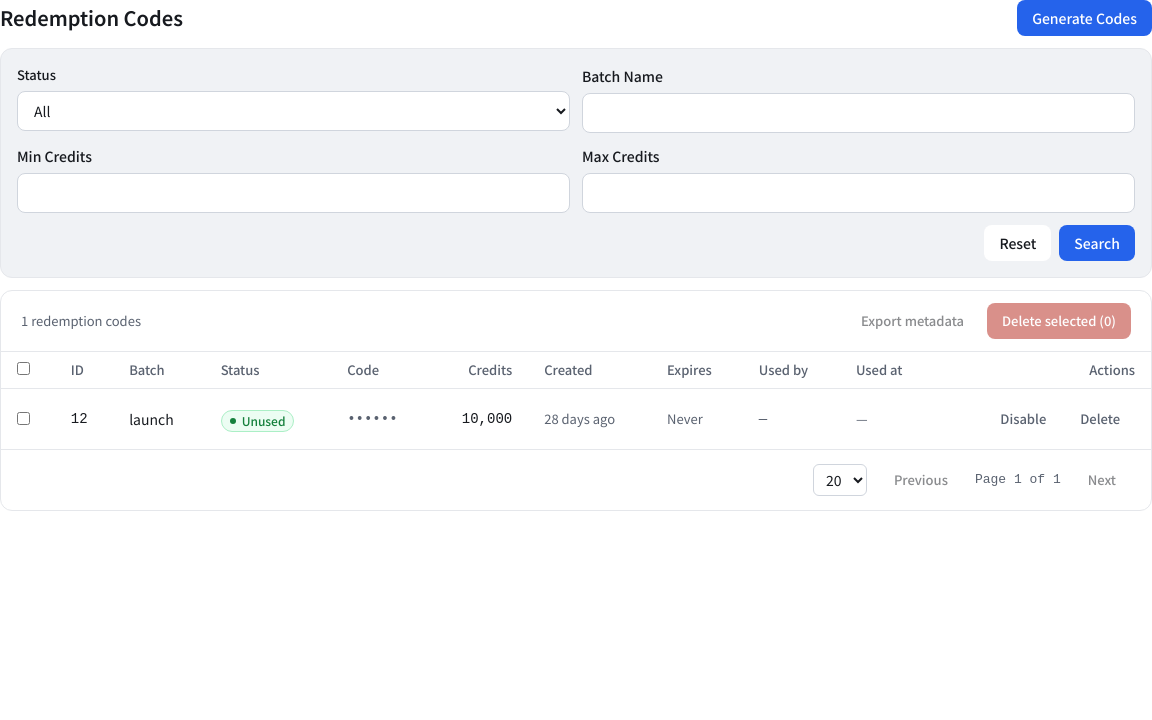
it: RedemptionCodesPage › falls back to the generic message for an unrecognized validation detail
expect the text "launch" is shown: met, box [113, 388, 205, 449]
Click the button "Generate Codes" at point(1085, 18), box [1017, 0, 1151, 36]
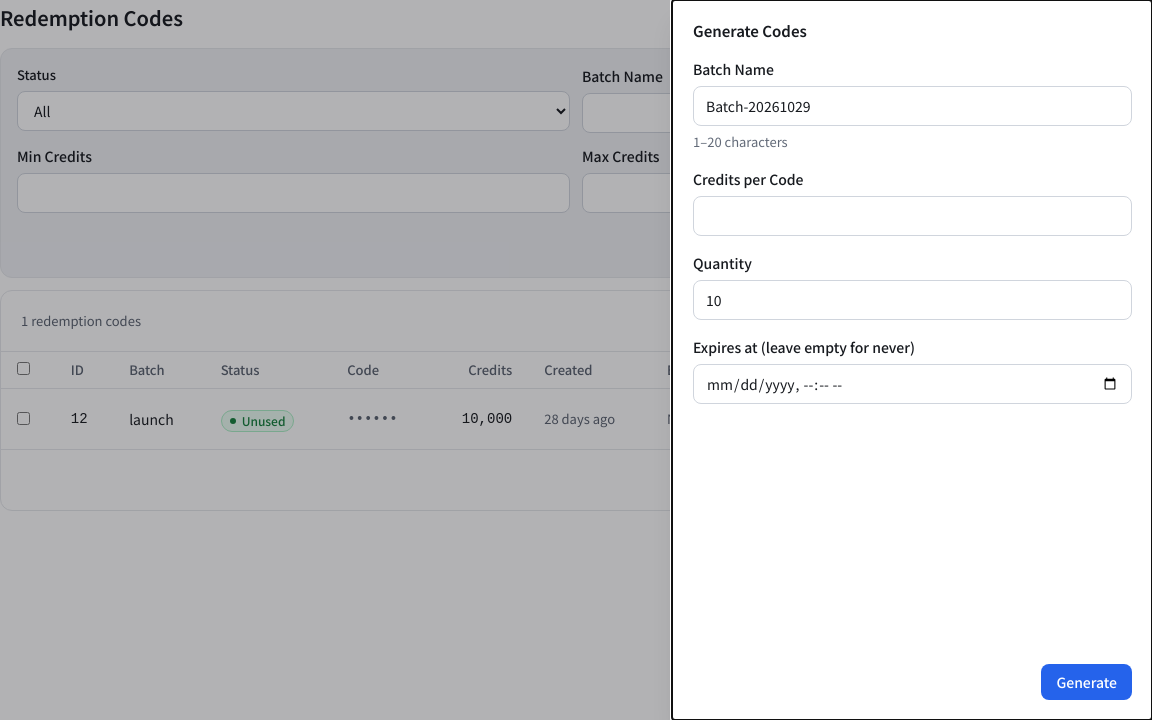
Type "100" into the field labelled "Credits per Code" at point(912, 216), box [693, 196, 1132, 236]
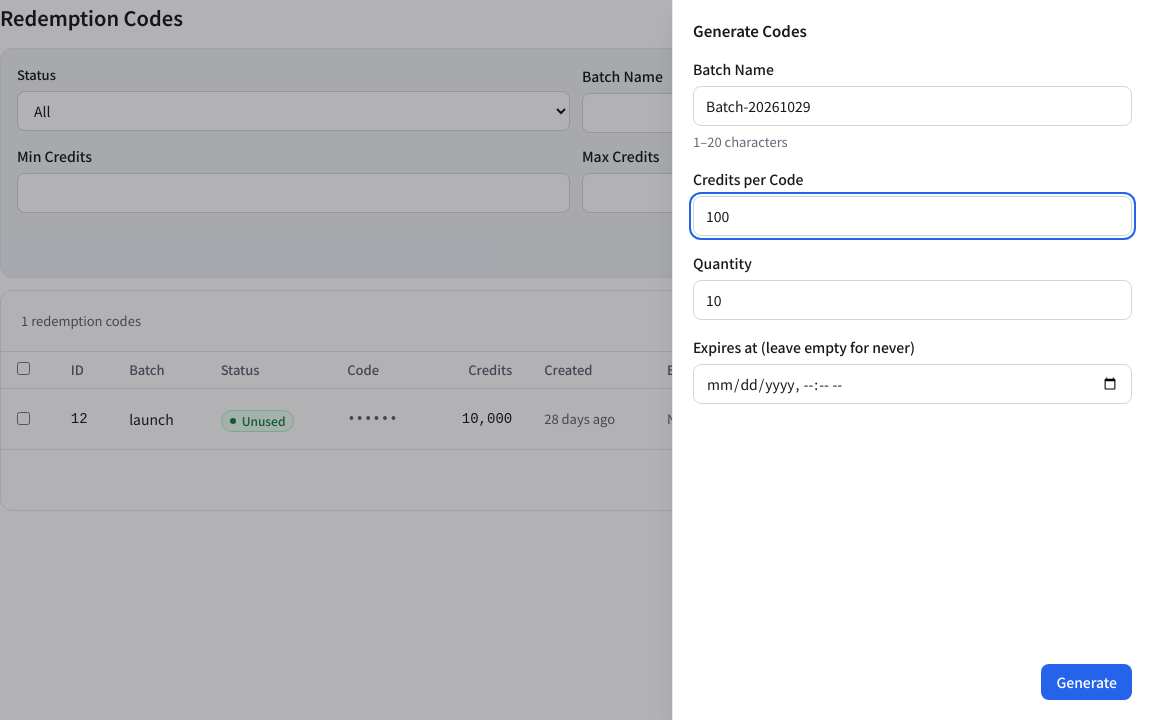
Click the button "Generate" at point(1087, 682), box [1041, 664, 1132, 700]
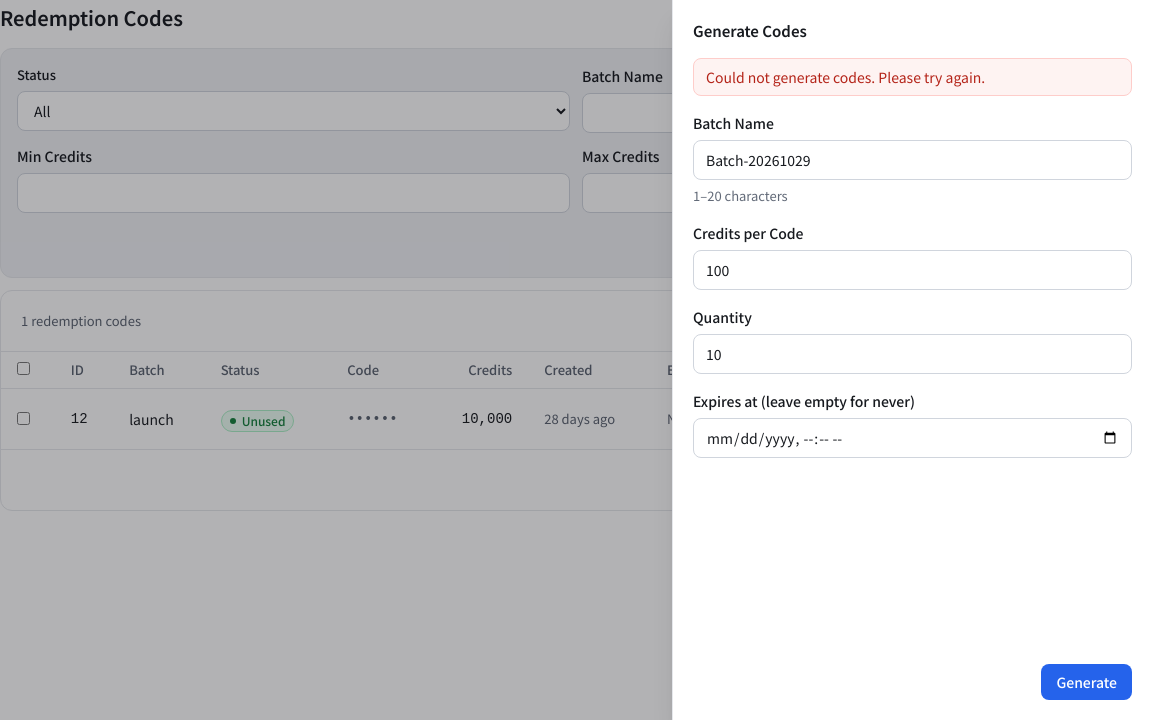
expect the text "Could not generate codes. Please try again." is shown: met, box [693, 58, 1132, 96]
